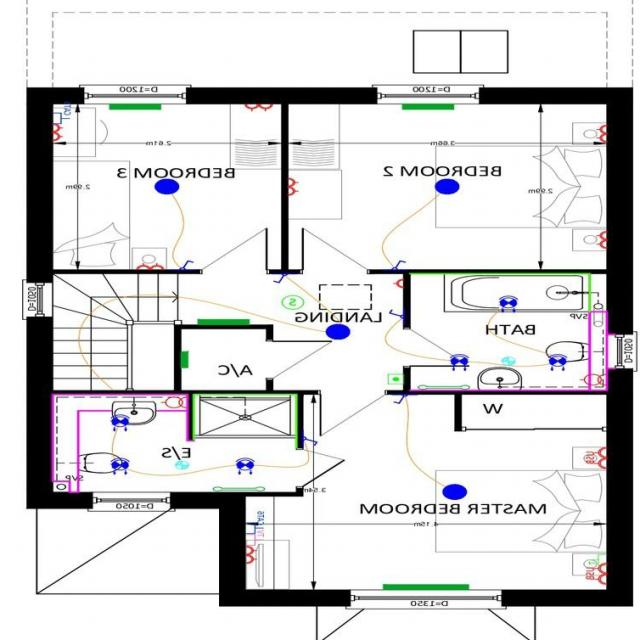Cat 6 Data Socket: (242, 516, 270, 535), (50, 106, 77, 123)
Ceiling Mounted Continuous Extract Fan With Boost Mode Activated By Light Switch: (495, 348, 519, 373), (171, 450, 190, 473)
Co-Ax TV Socket: (244, 531, 268, 544)
Double Socket: (237, 97, 274, 116), (591, 223, 609, 258), (132, 252, 166, 270), (241, 542, 264, 566), (288, 168, 302, 200), (595, 117, 609, 149), (50, 123, 71, 144)
Full Height Tiling: (412, 268, 598, 310), (190, 387, 297, 448)
Light Switch: (384, 300, 404, 328), (268, 268, 296, 284), (382, 256, 412, 270), (301, 430, 319, 452), (391, 391, 412, 409), (177, 253, 196, 271)
Low Energy Downlighter: (226, 452, 262, 483), (540, 346, 574, 378), (108, 450, 136, 484), (103, 409, 138, 434), (493, 290, 525, 315), (445, 349, 471, 373)
Low Energy Pendant Light: (147, 176, 193, 198), (435, 475, 473, 500), (321, 320, 357, 345), (428, 176, 462, 192)
Mains Wired Smoke Detector: (280, 289, 306, 313)
Programmable Room Thermostat: (381, 367, 404, 388)
Radiator: (372, 574, 479, 594), (100, 99, 164, 117), (193, 313, 253, 328), (396, 99, 458, 113), (178, 346, 195, 369)
Shaver Socket: (154, 391, 188, 415), (578, 368, 609, 388)
Single Socket: (385, 275, 404, 293)
Telephone Socket: (582, 548, 605, 564)
USB Double Socket: (578, 439, 606, 474), (582, 562, 608, 583)
